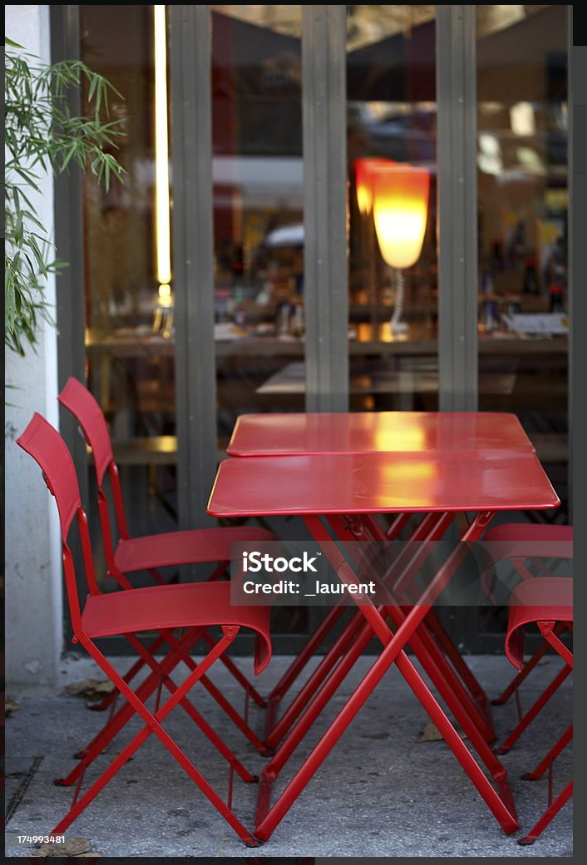obstacle: (204, 448, 561, 839), (21, 410, 279, 827), (59, 373, 255, 572), (220, 410, 535, 461)
